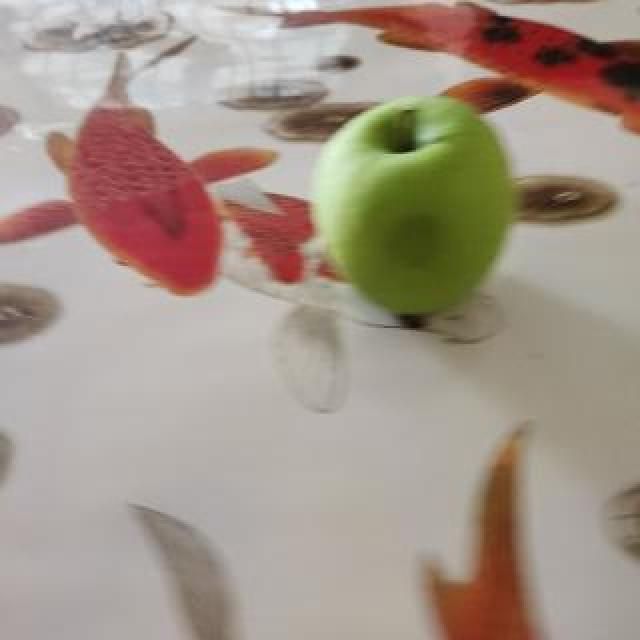Fresh Apple: (298, 95, 532, 340)
